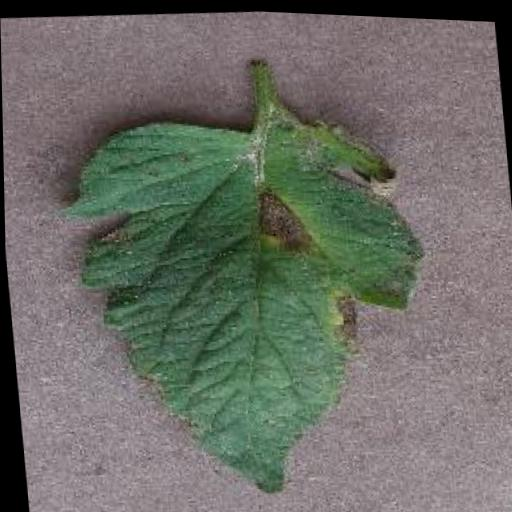Early Blight: (48, 88, 442, 512)
